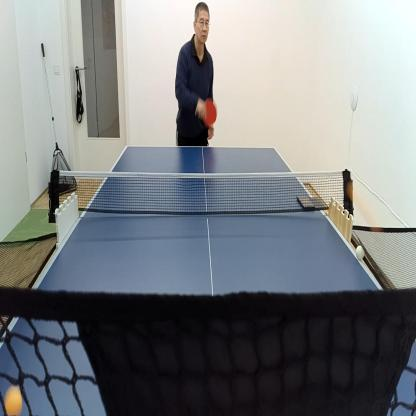Ball: (4, 385, 22, 416), (356, 247, 364, 258)
